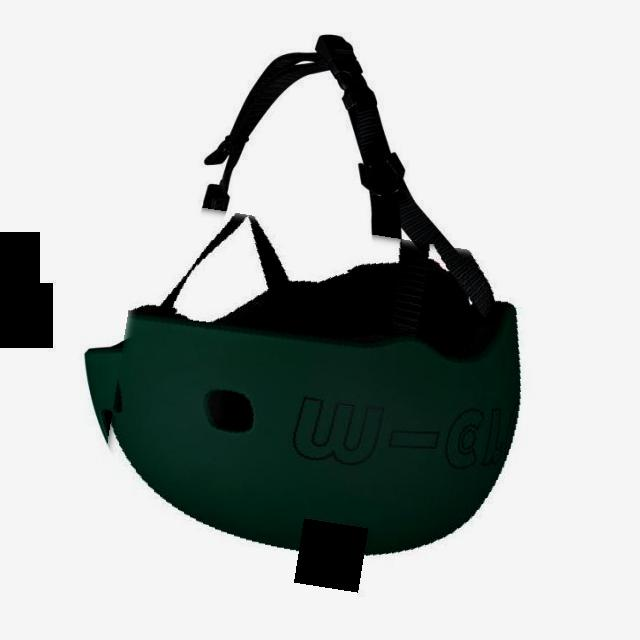helmet: (101, 216, 582, 618)
